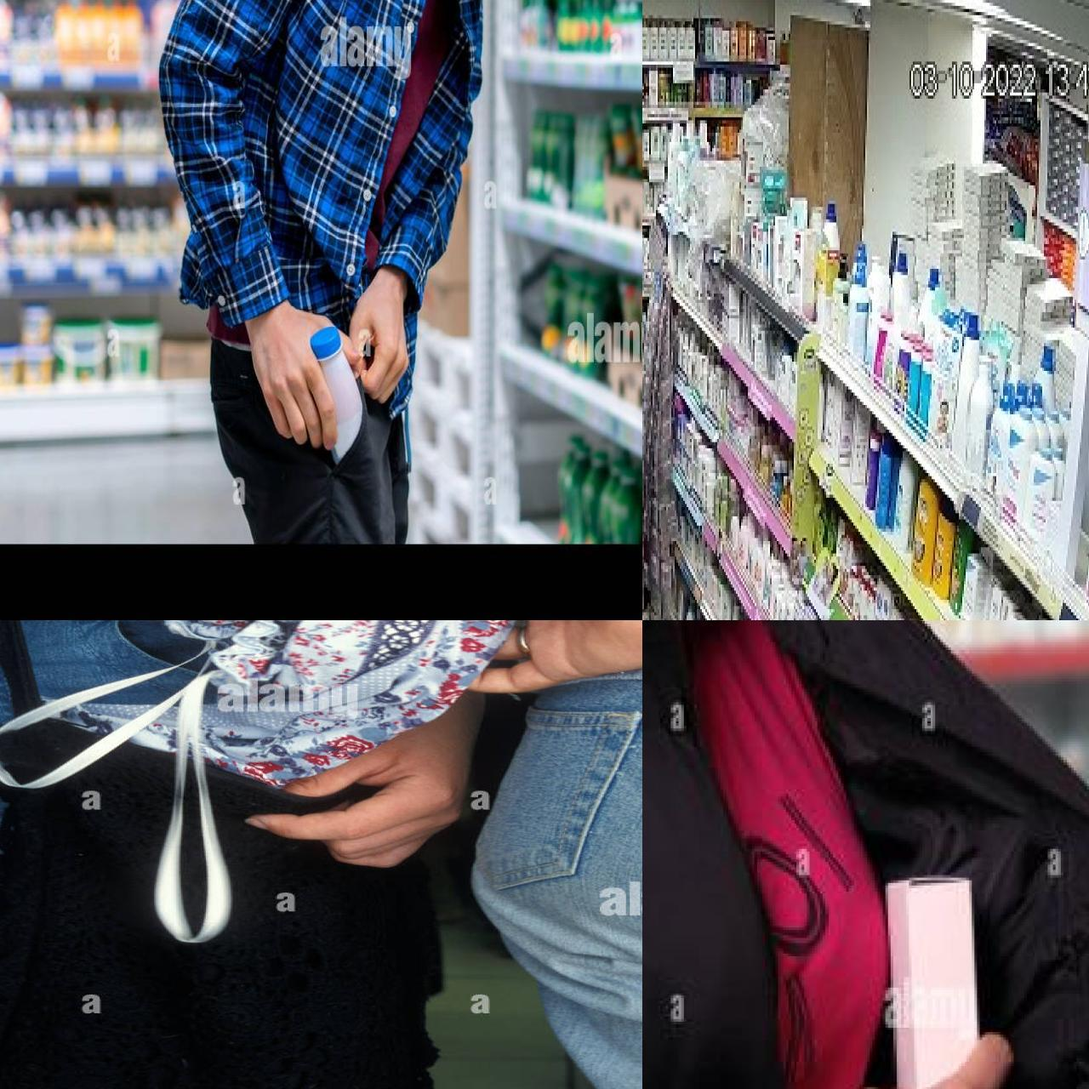shoplifting: (647, 631, 1082, 1086), (132, 267, 424, 491)
